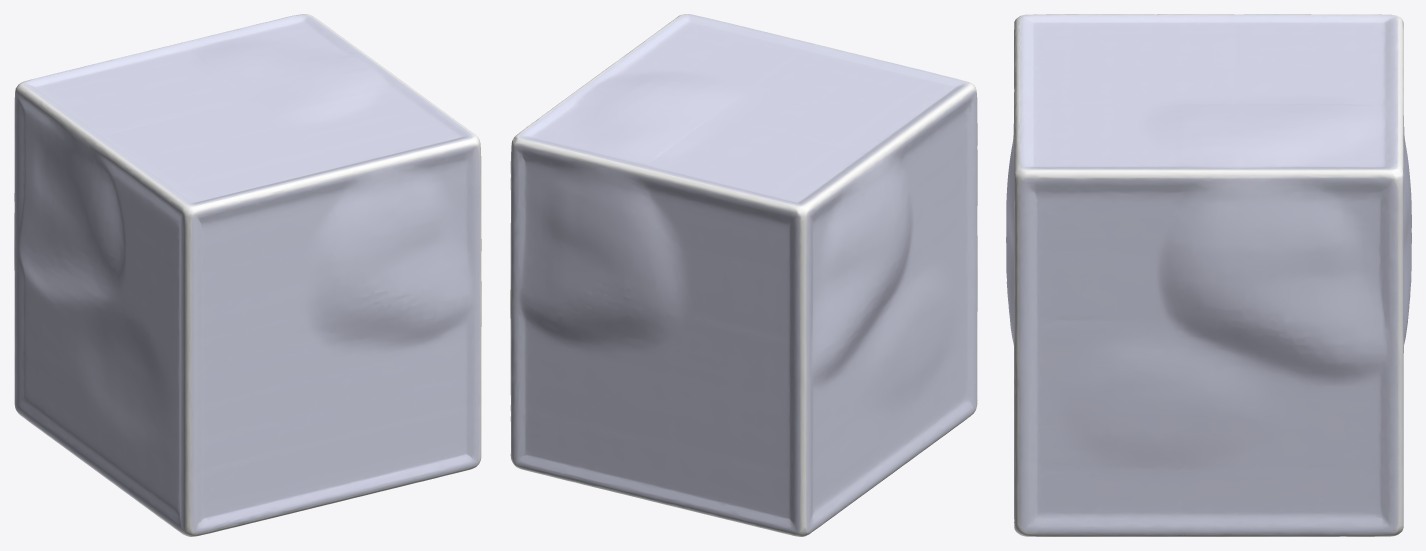
The model's file is cube_white.glb.
3 renders of one model, left to right at view 1: azimuth 30°, elevation 25°; view 2: azimuth 150°, elevation 25°; view 3: azimuth 270°, elevation 25°, orthographic. The views are drawn at different scales.
Parts seen in each view (by area): view 1: tripo_node_ea56c026-2bf0-4d90-8611-9c00ee01cbdd; view 2: tripo_node_ea56c026-2bf0-4d90-8611-9c00ee01cbdd; view 3: tripo_node_ea56c026-2bf0-4d90-8611-9c00ee01cbdd.
Part boxes in pixels (x1,y1,x2,y2): tripo_node_ea56c026-2bf0-4d90-8611-9c00ee01cbdd: [14, 14, 481, 536]; tripo_node_ea56c026-2bf0-4d90-8611-9c00ee01cbdd: [510, 14, 977, 536]; tripo_node_ea56c026-2bf0-4d90-8611-9c00ee01cbdd: [1006, 14, 1411, 536].
Size of the model in its own units: 0.987 by 1 by 0.9976.
Materials: 1 (1 with a texture image).
